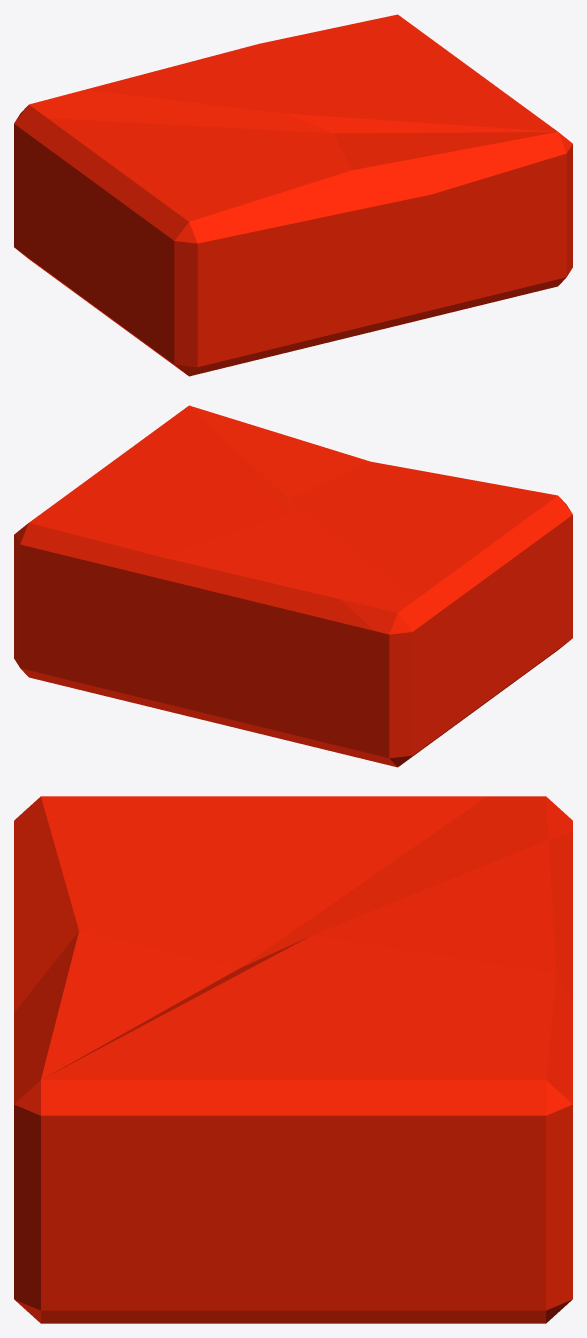
File: Red_Ingot.fbx
3 views of the same model, one above another, from view 1: azimuth 30°, elevation 25°; view 2: azimuth 150°, elevation 25°; view 3: azimuth 270°, elevation 25° (orthographic). The views are drawn at different scales.
Visible parts, largest first — view 1: Red_Ingot; view 2: Red_Ingot; view 3: Red_Ingot.
Boxes of the visible parts, <box> form: Red_Ingot: <box>14,14,572,376</box>; Red_Ingot: <box>14,405,572,767</box>; Red_Ingot: <box>14,796,572,1323</box>.
Size of the model in its own units: 18.97 by 7.09 by 14.62.
